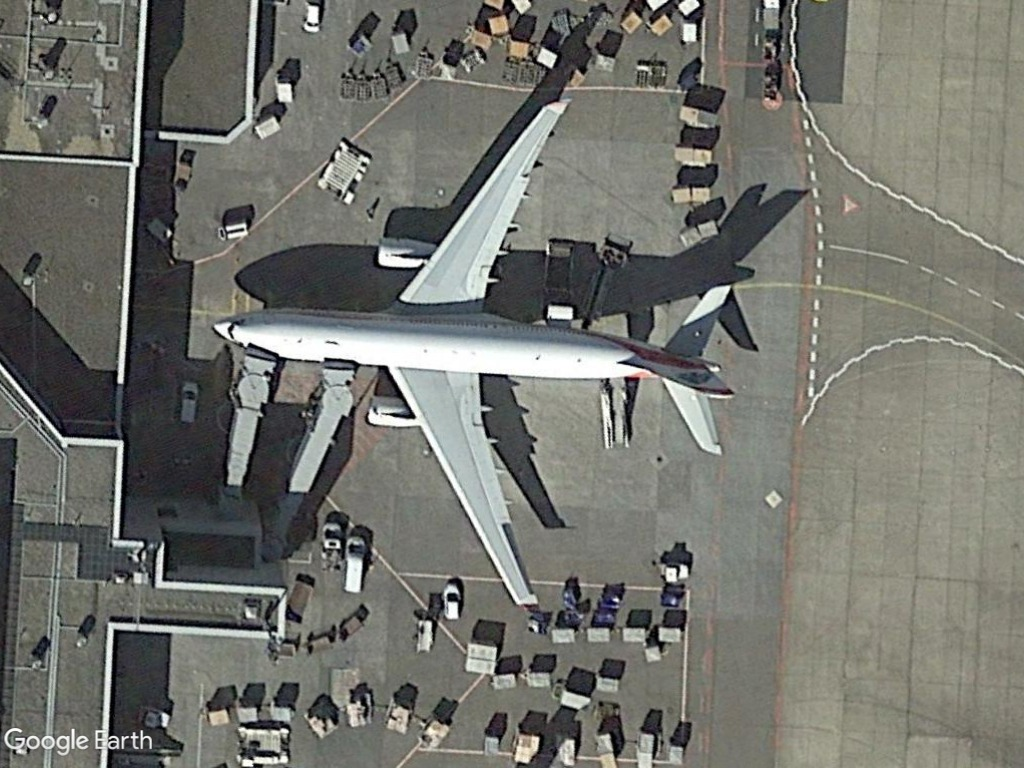airliner: (200, 95, 744, 615)
van: (332, 526, 385, 608)
